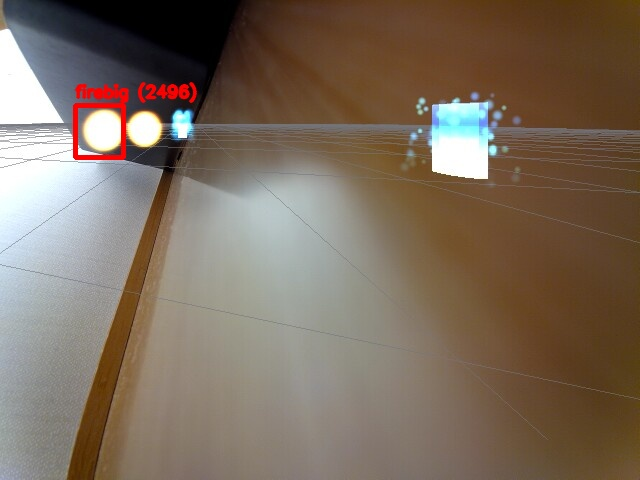firebig: (75, 105, 123, 157)
